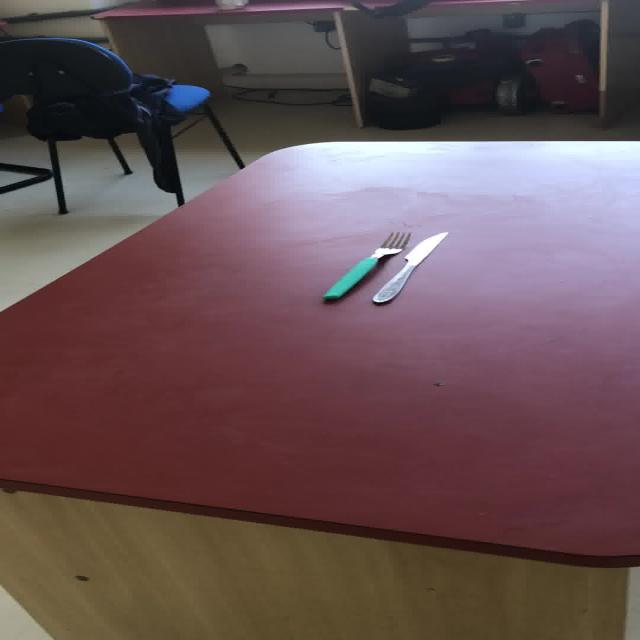fork: (321, 230, 410, 300)
knife fork: (321, 229, 448, 304), (370, 230, 448, 303)
